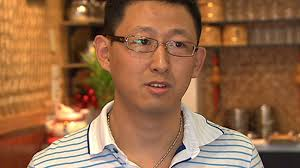Glasses: (108, 31, 201, 60)
